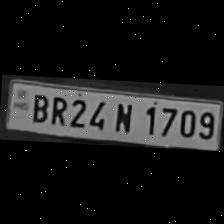0: (174, 104, 196, 138)
1: (136, 100, 158, 134)
2: (65, 93, 87, 127)
4: (83, 95, 108, 129)
7: (154, 102, 176, 138)
9: (194, 106, 216, 140)
B: (27, 90, 49, 122)
N: (108, 97, 136, 132)
R: (46, 92, 68, 124)
